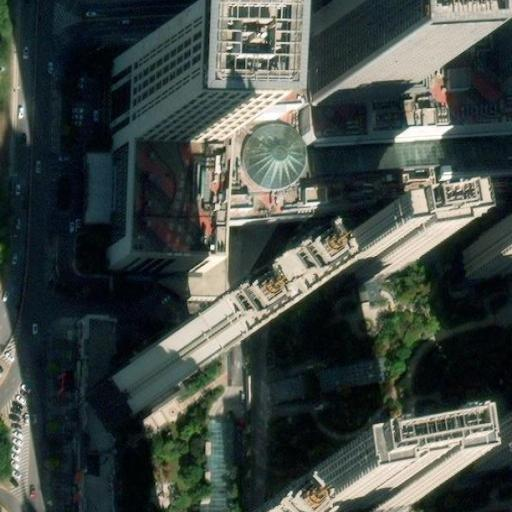building: (127, 9, 512, 218), (85, 318, 224, 434), (117, 142, 204, 274), (122, 39, 224, 146), (301, 3, 389, 102), (285, 459, 416, 512), (322, 234, 407, 279), (456, 230, 512, 274), (487, 0, 512, 86), (478, 422, 512, 468)
